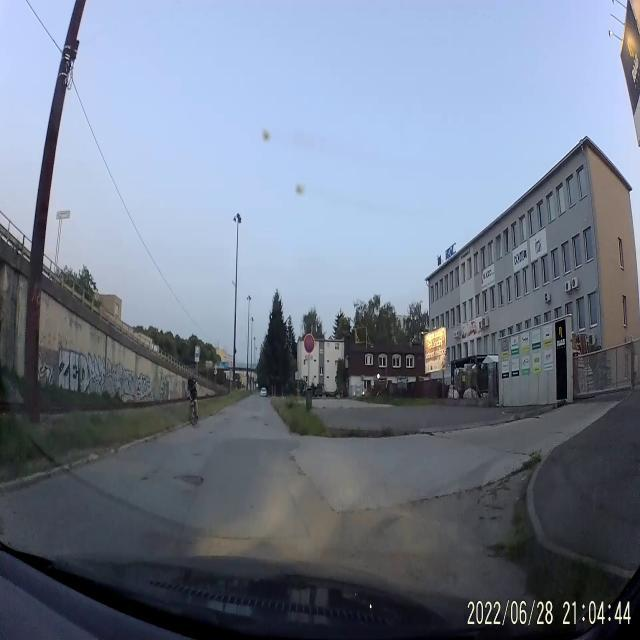Pothole: (173, 471, 206, 490)
